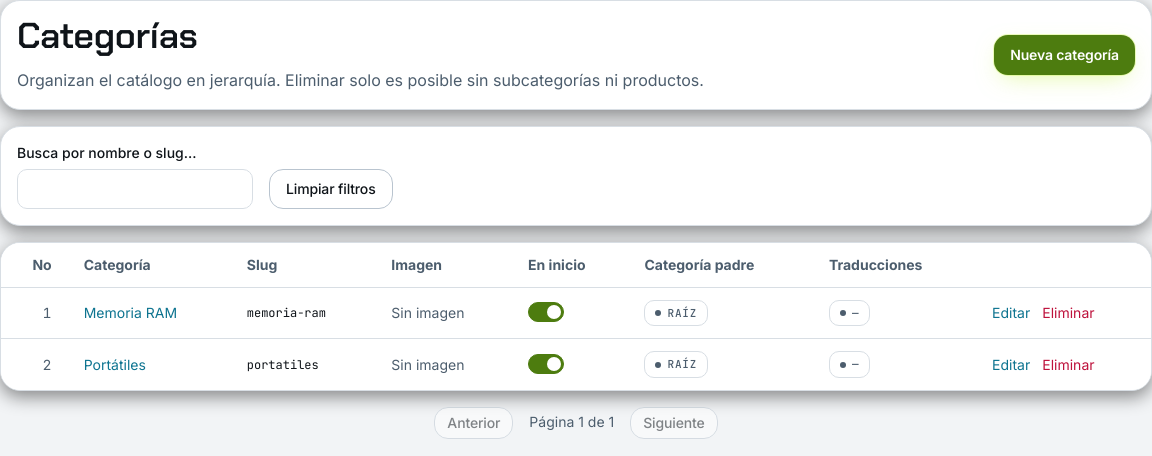
Test case: AdminCategoriesView filters › clears the name filter with the clear button
Type "ram" into the field labelled "Busca por nombre o slug…" at (135, 189), box [17,169,253,209]
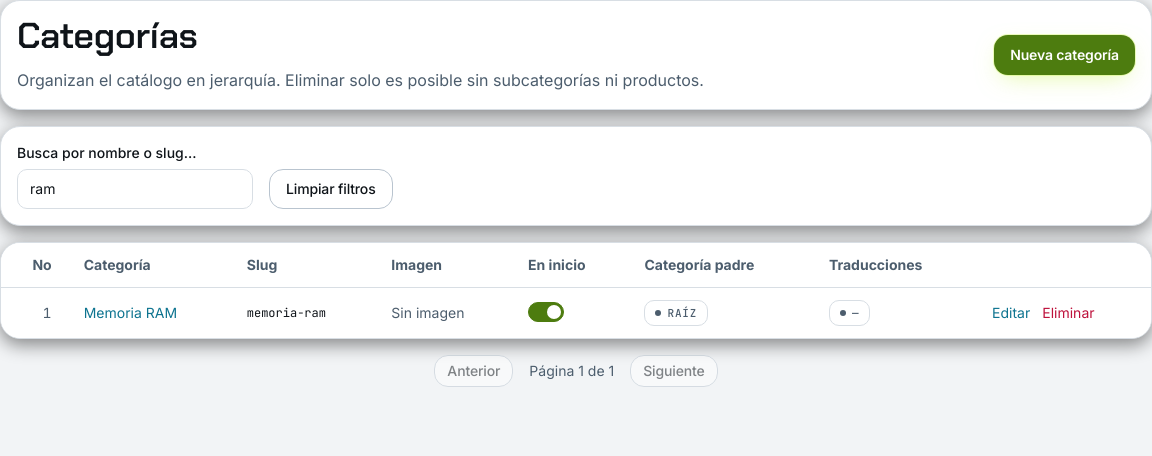
Result: the link "Portátiles" is gone
Click the button "Limpiar filtros" at (331, 189), box [269,169,393,209]
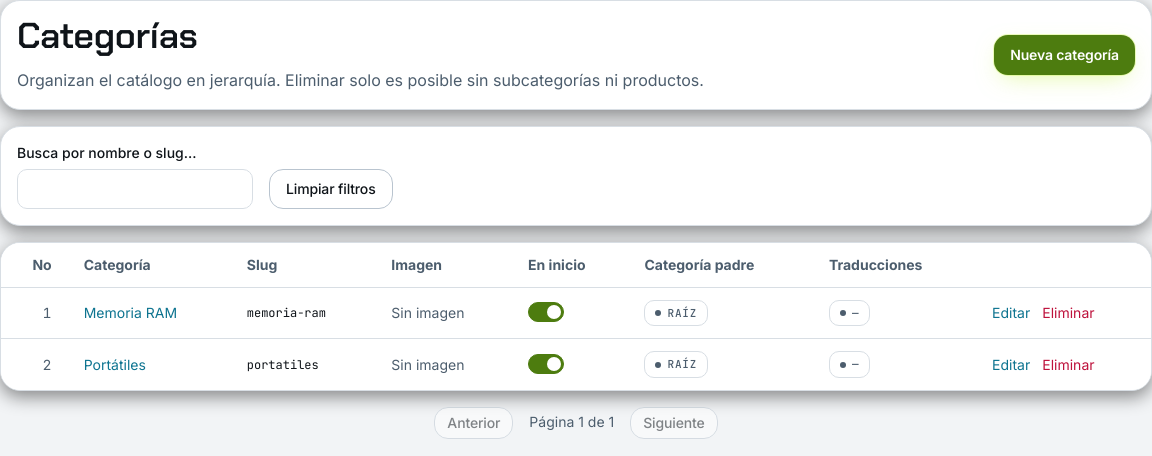
Expected: the link "Memoria RAM" is shown, [84,304,177,321]
Result: the link "Portátiles" is shown at [84,356,146,372]
Result: the field labelled "Busca por nombre o slug…" is empty at [17,169,253,209]
